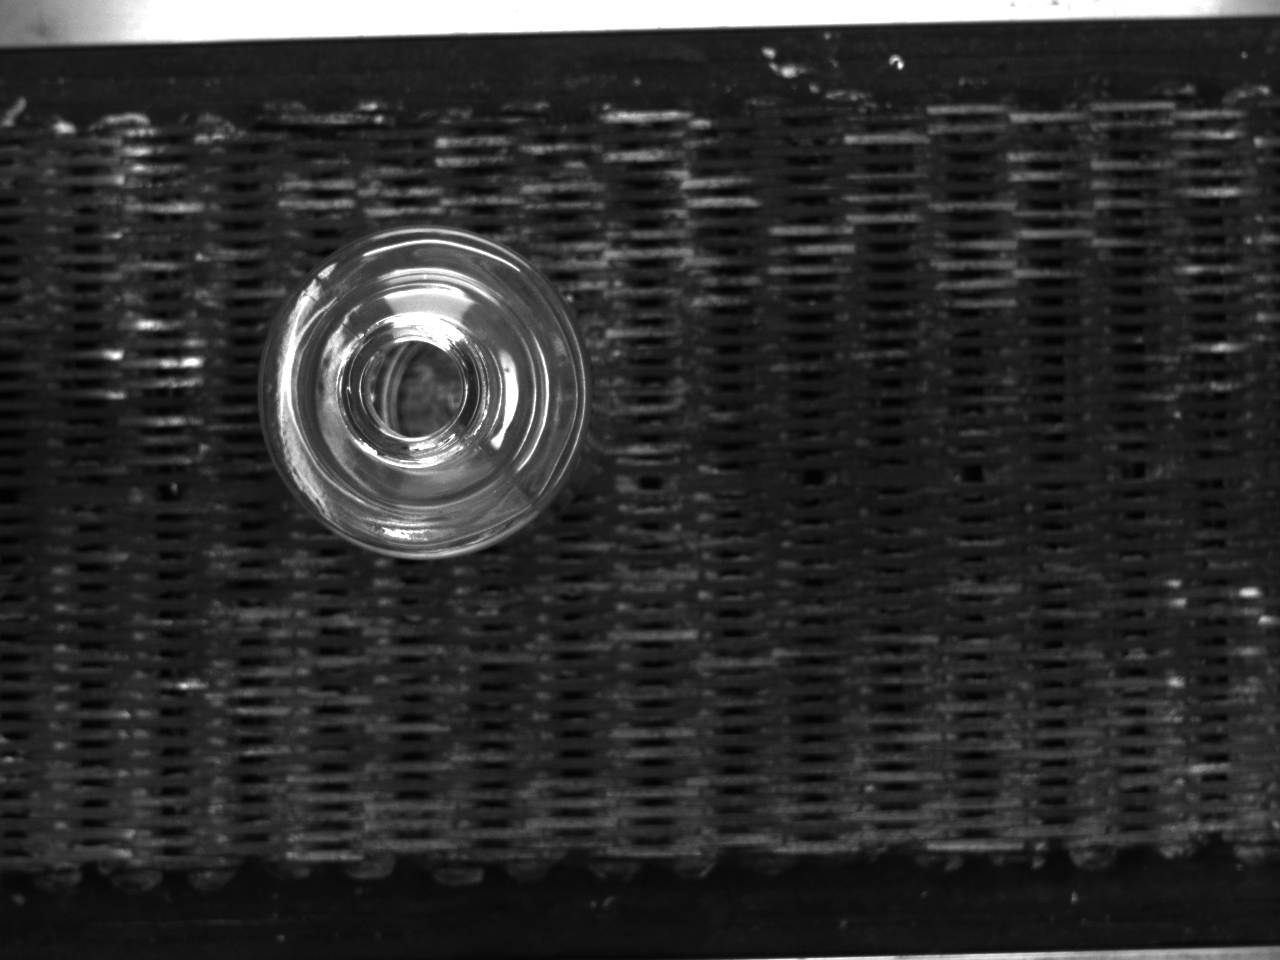bottleneck: (341, 311, 492, 466)
